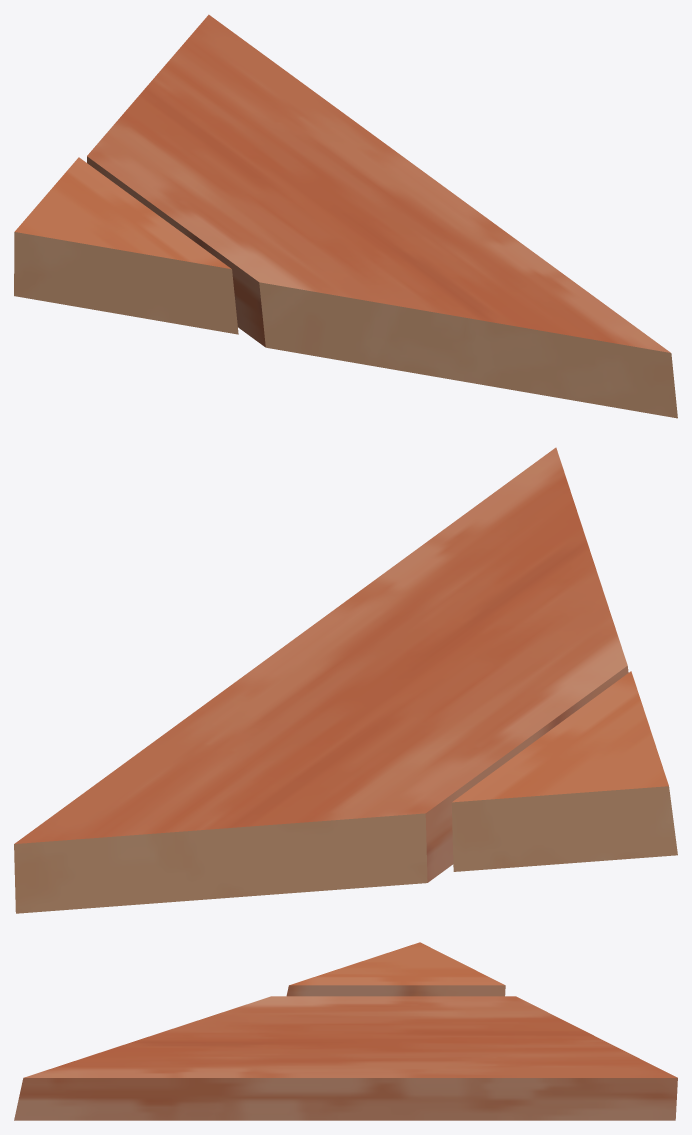
The model's file is plank_s03.fbx.
3 views of the same model, one above another, from view 1: azimuth 30°, elevation 25°; view 2: azimuth 150°, elevation 25°; view 3: azimuth 270°, elevation 25° (orthographic). The views are drawn at different scales.
Parts seen in each view (by area): view 1: plank_s03; view 2: plank_s03; view 3: plank_s03.
Boxes of the visible parts, x1,y1,x2,y2 form: plank_s03: (14,14,677,418); plank_s03: (14,447,677,913); plank_s03: (14,942,677,1120).
Bounding box in the file's own units: 1.51 × 0.26 × 3.23.
